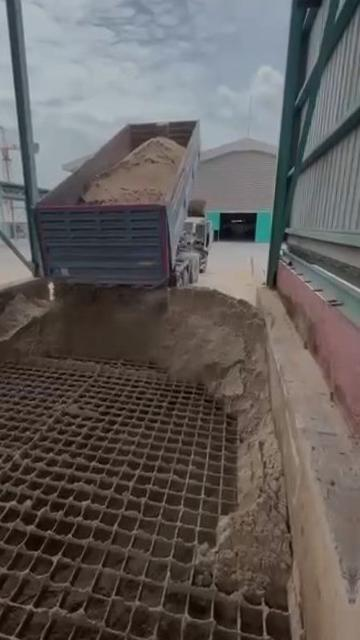sand: (0, 288, 289, 604), (83, 137, 184, 202)
